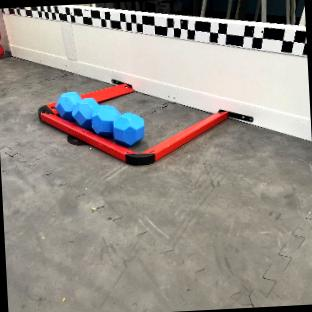V5_BLUE: (55, 91, 145, 146)
